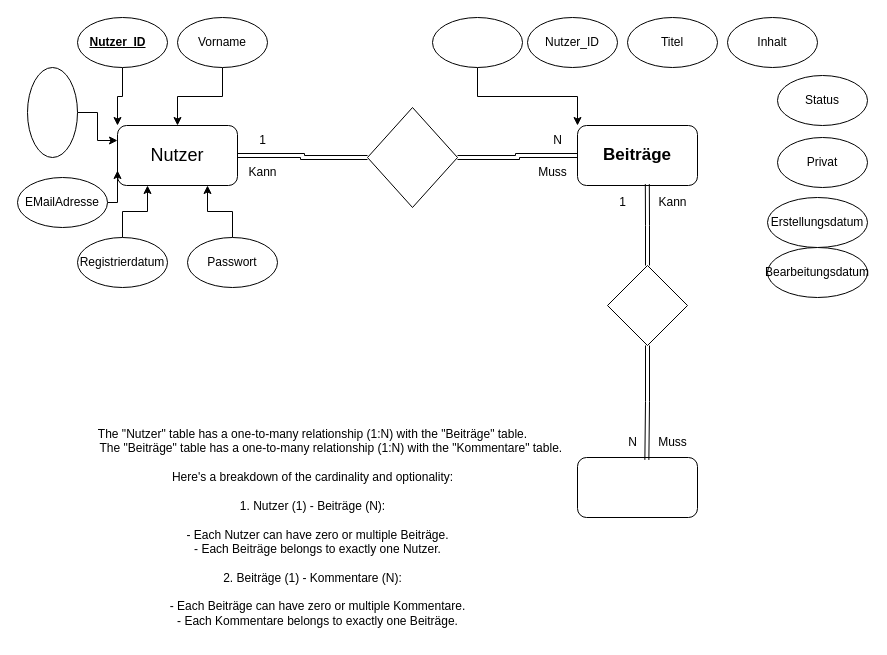
The diagram is 887 pixels wide and 655 high, and some of its shapes have lost their labels. The shapes that lost their labels are listed below. From the top down, each one's box as (x1, y1, x2, y2) in pixels, then its label:
(432, 16, 522, 68): Beitrag_ID
(26, 66, 78, 158): Bild
(366, 106, 458, 208): Post ------ Posted by
(576, 456, 698, 518): Kommentare
